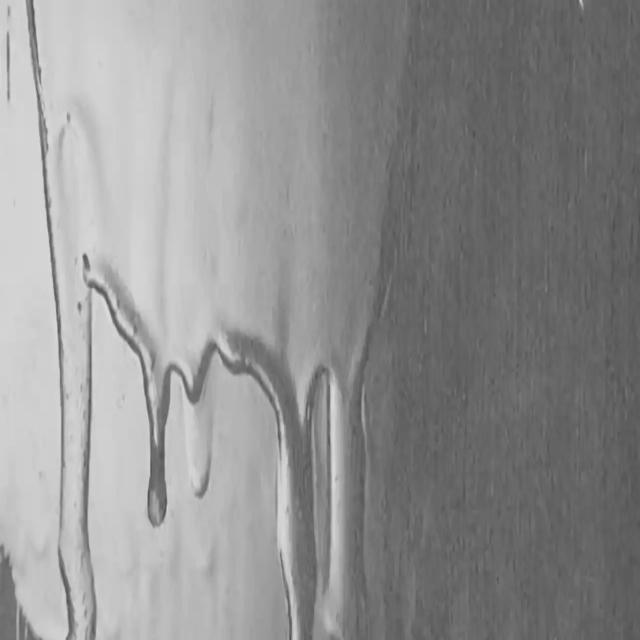paint drips: (219, 168, 384, 636), (7, 3, 108, 638), (97, 221, 229, 536)
